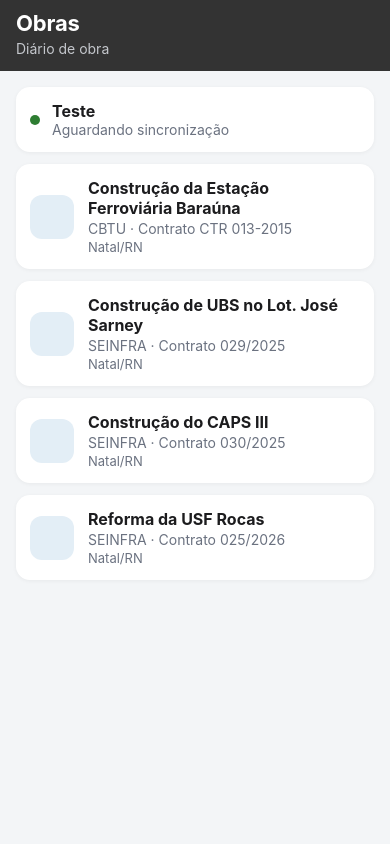
Scenario: Raiz › navega da lista para o registro do dia e volta ao salvar
This screenshot has width=390, height=844.
Click the 1st element with test id "obra-item".
click(195, 216)  # box [16, 164, 374, 269]
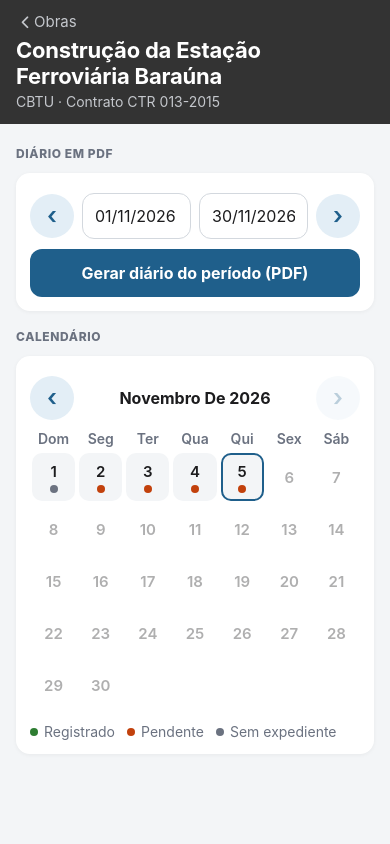
Click the element with test id "dia-2026-11-05".
click(242, 477)  # box [221, 453, 264, 501]
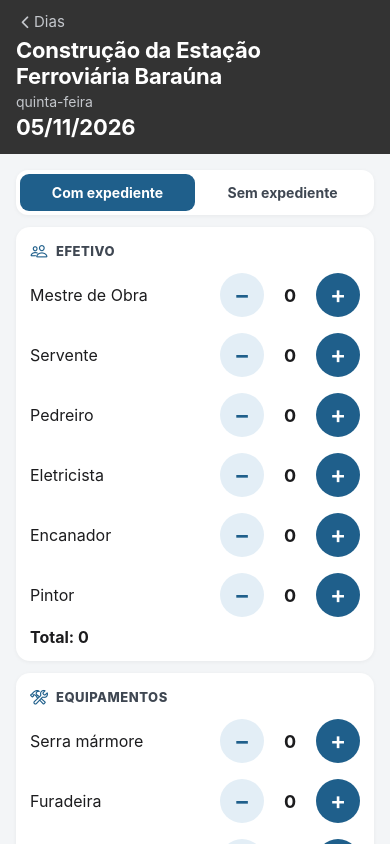
Expected: the text "05/11/2026" is shown, [16, 114, 135, 140]
Click the element with test id "mais-Servente".
click(338, 355)  # box [316, 333, 360, 377]
(page scrolled)
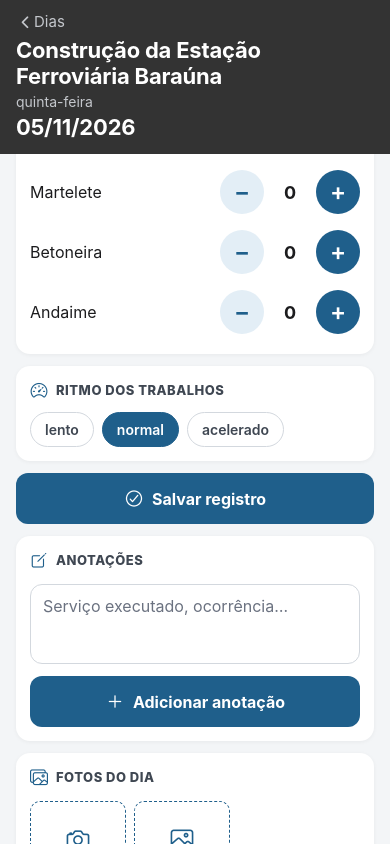
Click the element with test id "salvar".
click(195, 498)  # box [16, 473, 374, 524]
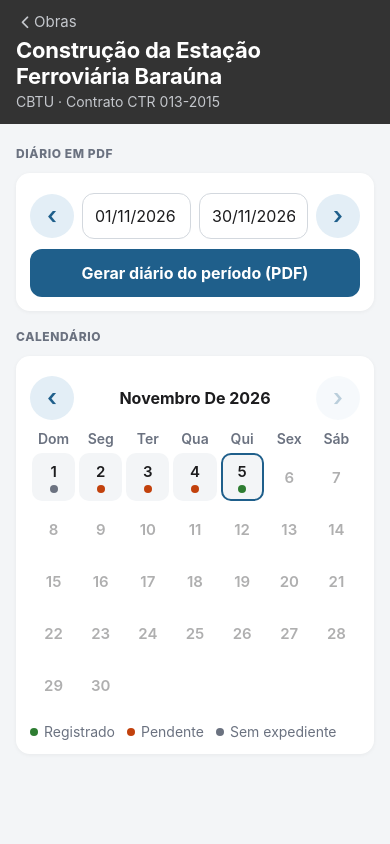
Expected: the number of elements with test id "dia-item" is 30
Click the element with test id "voltar".
click(46, 22)  # box [16, 10, 77, 33]
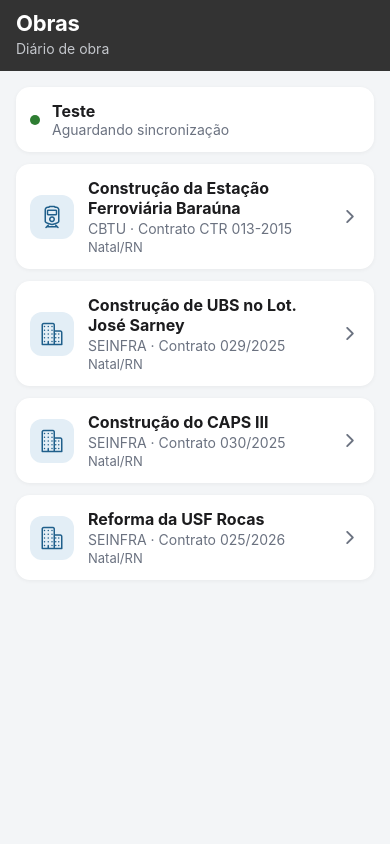
Expected: the number of elements with test id "obra-item" is 4, [16, 164, 374, 269]; [16, 281, 374, 386]; [16, 398, 374, 483]; [16, 495, 374, 580]
